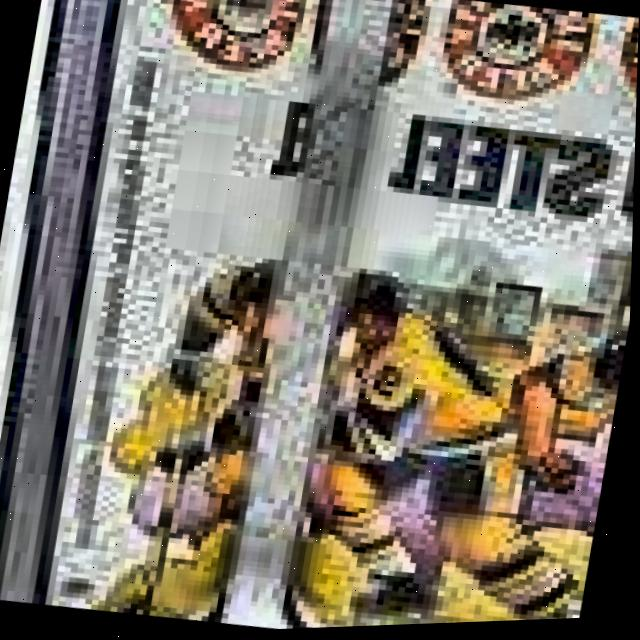metal: (257, 0, 640, 632), (0, 0, 354, 635)
